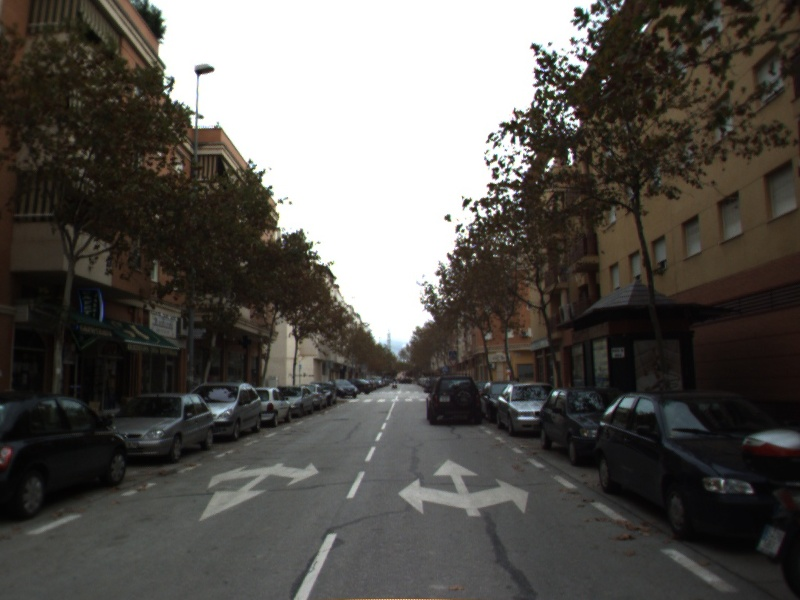STRAIGHT_LEFT_RIGHT: (396, 457, 531, 518)
